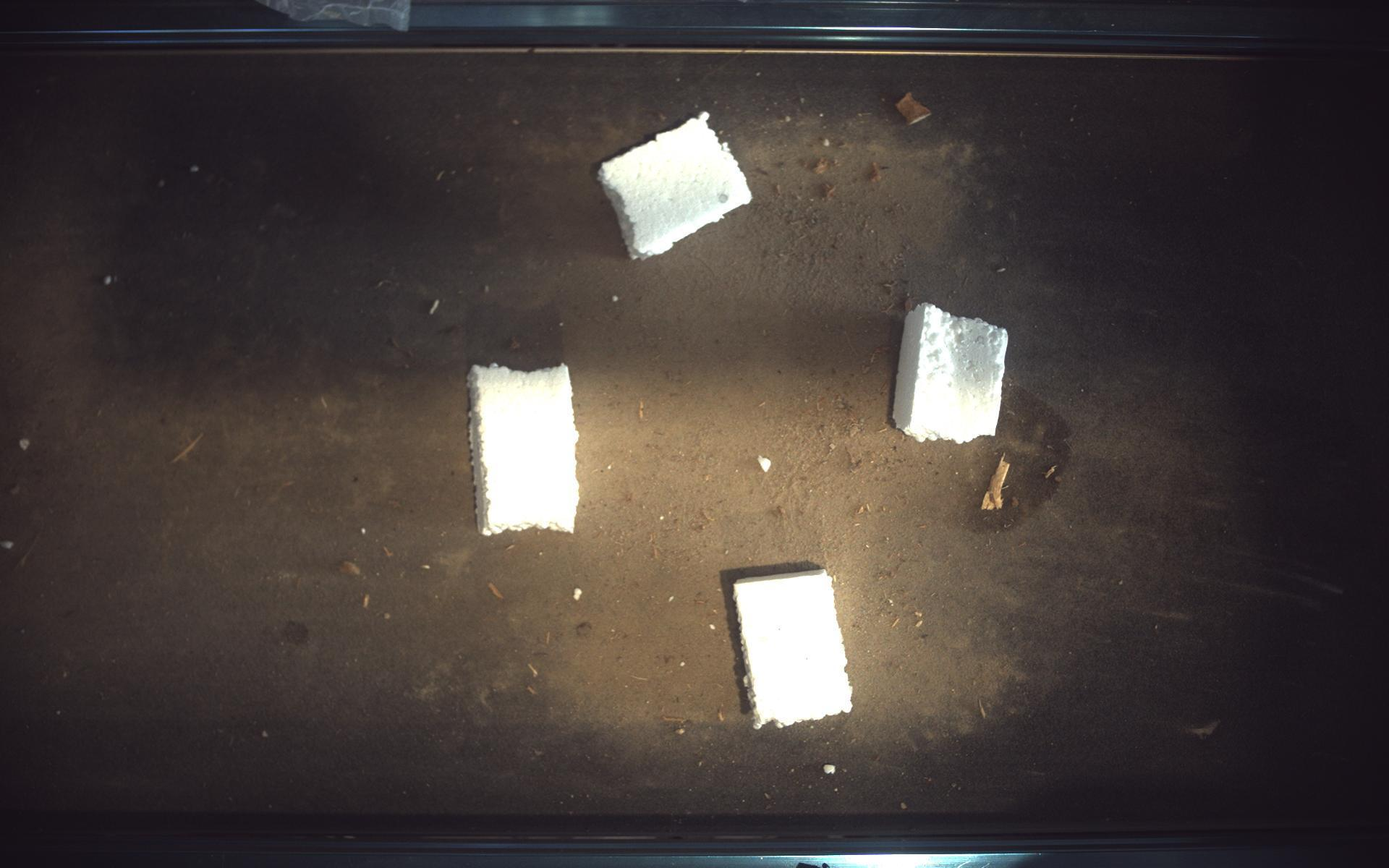foam: (598, 111, 753, 258), (467, 364, 579, 536), (735, 570, 854, 730), (895, 303, 1010, 443)
